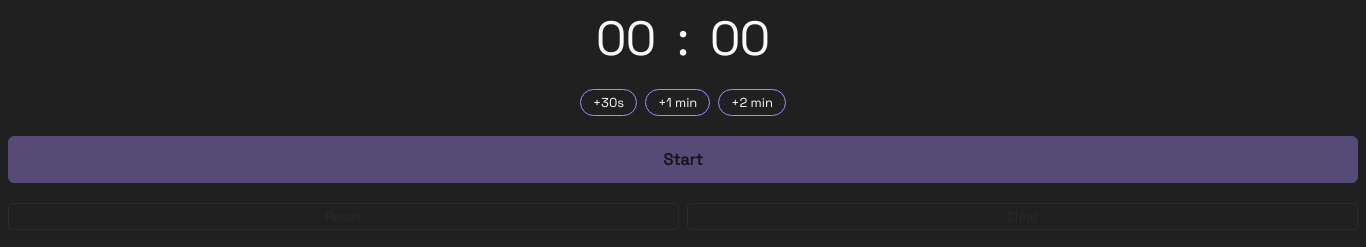
TimerControls › pill buttons › adds 30 seconds when +30s is clicked
Click the button "+30s": (609,102) [580,89,637,116]
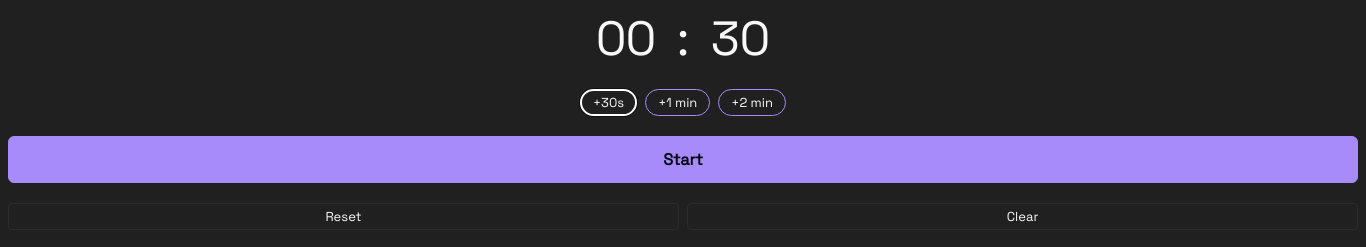
Result: the field named "Seconds" holds "30" at [694,8,786,69]
